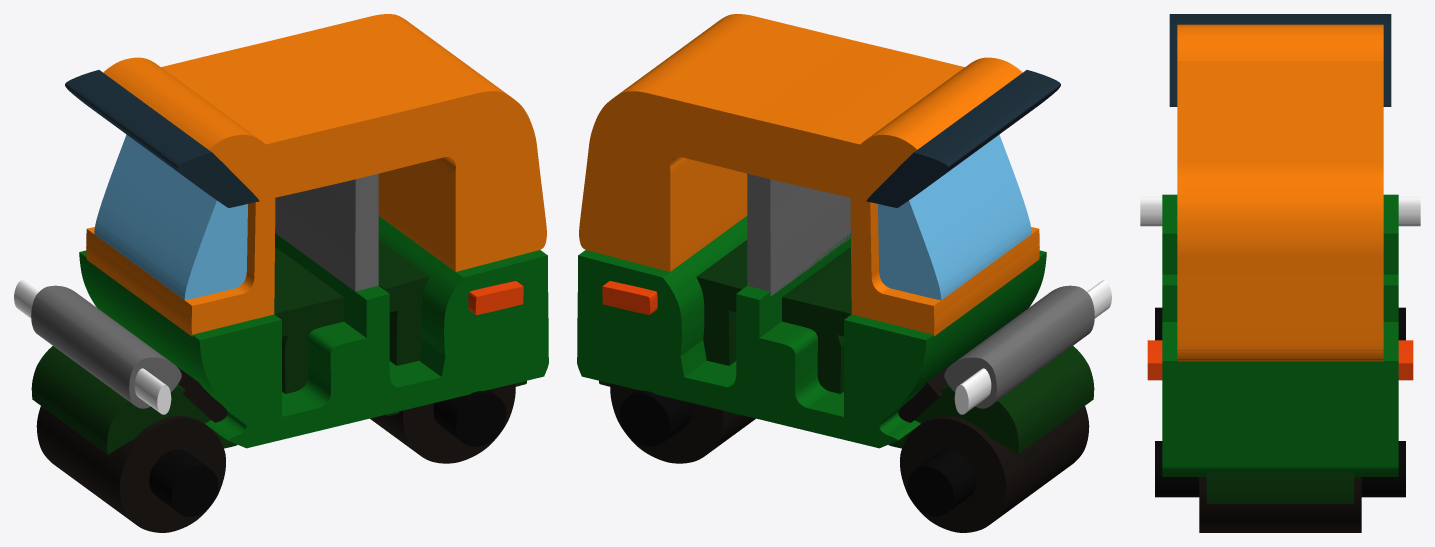
3 views of the same model, side by side, from view 1: azimuth 30°, elevation 25°; view 2: azimuth 150°, elevation 25°; view 3: azimuth 270°, elevation 25° (orthographic). The views are drawn at different scales.
Visible parts, largest first — view 1: U+1F6FA_layer04_obj00, U+1F6FA_layer06_obj00, U+1F6FA_layer02_obj00, U+1F6FA_layer01_obj03, U+1F6FA_layer03_obj01, U+1F6FA_layer03_obj00, U+1F6FA_layer00_obj03, U+1F6FA_layer05_obj00, U+1F6FA_layer00_obj00, U+1F6FA_layer00_obj01, U+1F6FA_layer01_obj01, U+1F6FA_layer07_obj00 (+4 smaller); view 2: U+1F6FA_layer04_obj00, U+1F6FA_layer06_obj00, U+1F6FA_layer02_obj00, U+1F6FA_layer01_obj03, U+1F6FA_layer03_obj01, U+1F6FA_layer03_obj00, U+1F6FA_layer00_obj03, U+1F6FA_layer05_obj00, U+1F6FA_layer00_obj00, U+1F6FA_layer00_obj01, U+1F6FA_layer01_obj01, U+1F6FA_layer07_obj00 (+4 smaller); view 3: U+1F6FA_layer04_obj00, U+1F6FA_layer06_obj00, U+1F6FA_layer01_obj01, U+1F6FA_layer00_obj02, U+1F6FA_layer05_obj00, U+1F6FA_layer07_obj01, U+1F6FA_layer09_obj00, U+1F6FA_layer08_obj00, U+1F6FA_layer07_obj00.
Part boxes in pixels (x1,y1,x2,y2): U+1F6FA_layer04_obj00: (86,14,546,336); U+1F6FA_layer06_obj00: (79,216,548,448); U+1F6FA_layer02_obj00: (94,134,247,300); U+1F6FA_layer01_obj03: (36,406,225,532); U+1F6FA_layer03_obj01: (275,173,378,291); U+1F6FA_layer03_obj00: (31,285,181,408); U+1F6FA_layer00_obj03: (31,346,237,454); U+1F6FA_layer05_obj00: (65,70,259,207); U+1F6FA_layer00_obj00: (274,247,343,393); U+1F6FA_layer00_obj01: (378,240,429,365); U+1F6FA_layer01_obj01: (370,383,515,463); U+1F6FA_layer07_obj00: (149,449,218,516); U+1F6FA_layer04_obj00: (579,14,1039,336); U+1F6FA_layer06_obj00: (577,216,1046,448); U+1F6FA_layer02_obj00: (878,134,1031,300); U+1F6FA_layer01_obj03: (900,406,1089,532); U+1F6FA_layer03_obj01: (747,173,850,296); U+1F6FA_layer03_obj00: (944,285,1094,408); U+1F6FA_layer00_obj03: (888,346,1094,454); U+1F6FA_layer05_obj00: (866,70,1060,207); U+1F6FA_layer00_obj00: (782,247,851,393); U+1F6FA_layer00_obj01: (696,240,747,365); U+1F6FA_layer01_obj01: (610,383,755,463); U+1F6FA_layer07_obj00: (907,449,976,516); U+1F6FA_layer04_obj00: (1177,24,1383,361); U+1F6FA_layer06_obj00: (1162,194,1398,476); U+1F6FA_layer01_obj01: (1199,477,1361,532); U+1F6FA_layer00_obj02: (1206,472,1354,503); U+1F6FA_layer05_obj00: (1169,14,1391,106); U+1F6FA_layer07_obj01: (1155,441,1405,497); U+1F6FA_layer09_obj00: (1140,196,1420,226); U+1F6FA_layer08_obj00: (1147,340,1413,380); U+1F6FA_layer07_obj00: (1155,307,1405,340).
Size of the model in its own units: 0.3255 by 0.2872 by 0.19.
